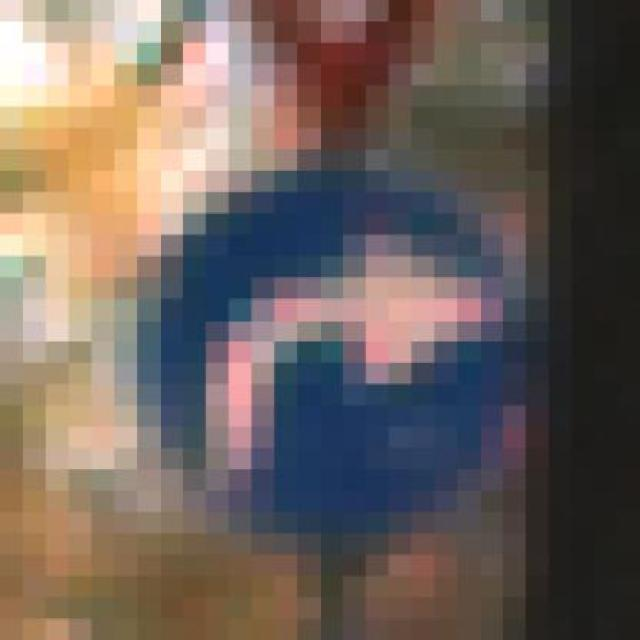Turn right ahead: (130, 101, 519, 570)
